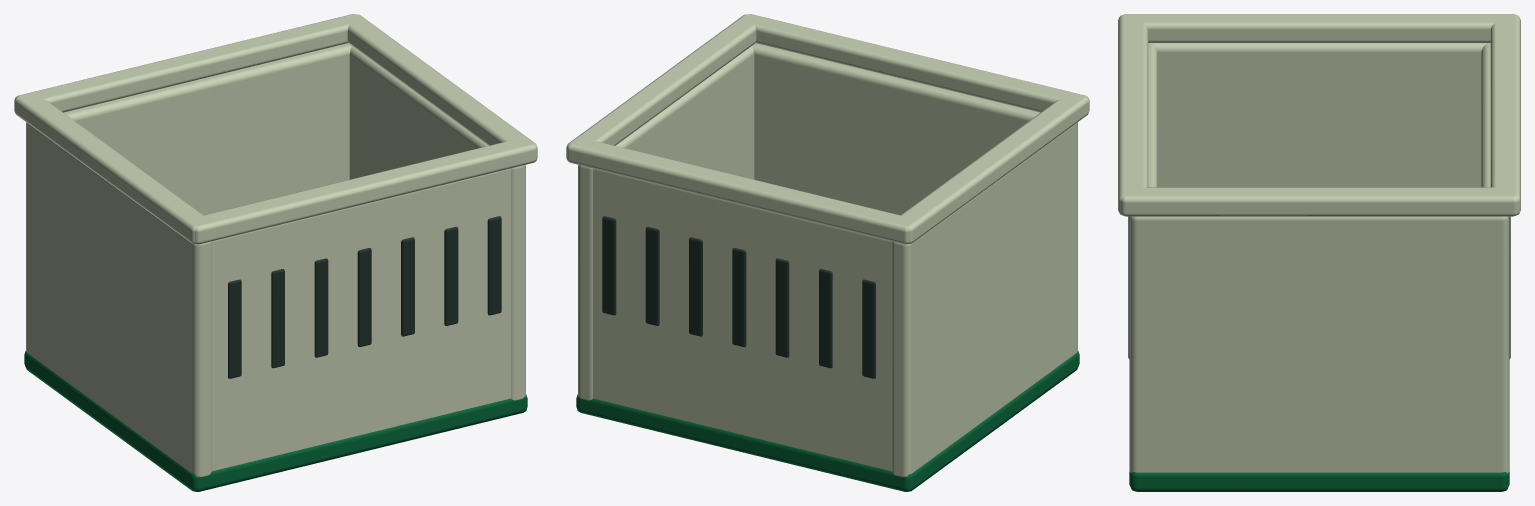
File: juice-bin.glb
The picture shows the model from 3 angles, left to right: view 1: azimuth 30°, elevation 25°; view 2: azimuth 150°, elevation 25°; view 3: azimuth 270°, elevation 25°; orthographic projection. The views are drawn at different scales.
Parts seen in each view (by area): view 1: ReusableJuiceBin; view 2: ReusableJuiceBin; view 3: ReusableJuiceBin.
Part boxes in pixels (x1,y1,x2,y2): ReusableJuiceBin: (14, 14, 537, 491); ReusableJuiceBin: (566, 14, 1089, 491); ReusableJuiceBin: (1118, 14, 1520, 491).
Bounding box in the file's own units: 2.32 × 1.74 × 2.12.
